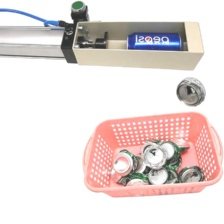can: (121, 28, 187, 57), (165, 73, 210, 107), (120, 168, 152, 194), (145, 165, 179, 189), (177, 160, 207, 187), (141, 144, 169, 171), (111, 147, 136, 175), (164, 138, 190, 152)
